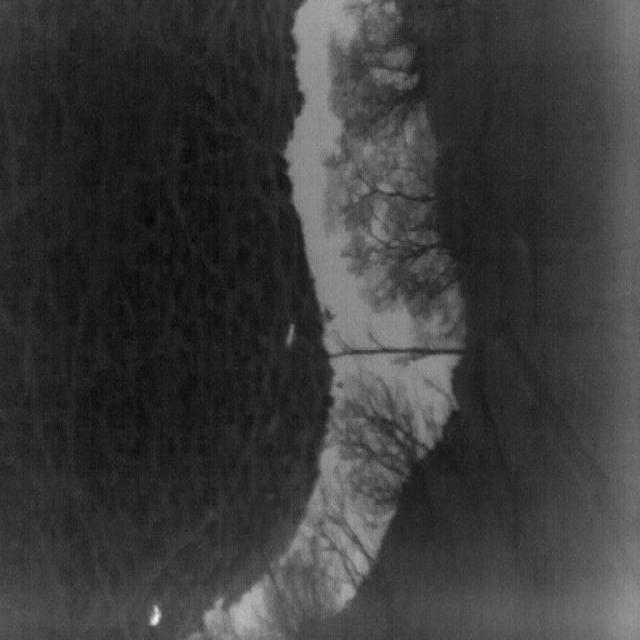deer: (148, 604, 162, 628), (284, 323, 296, 348)
